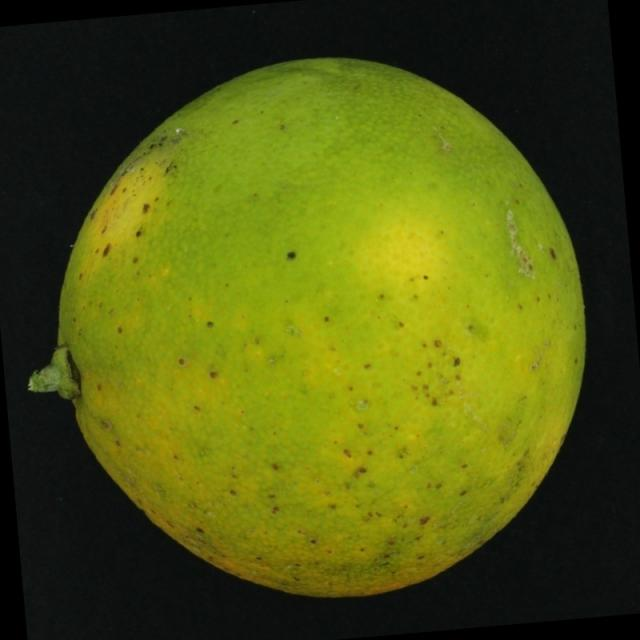grenning: (20, 26, 605, 621)
